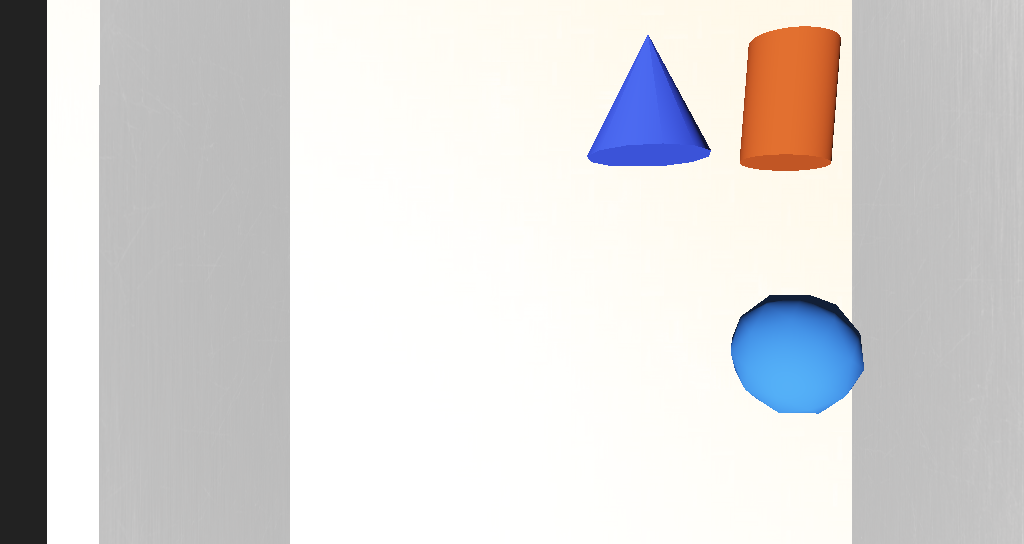cone: (593, 179, 647, 231)
cylinder: (515, 179, 576, 231)
sphere: (589, 272, 650, 320)
